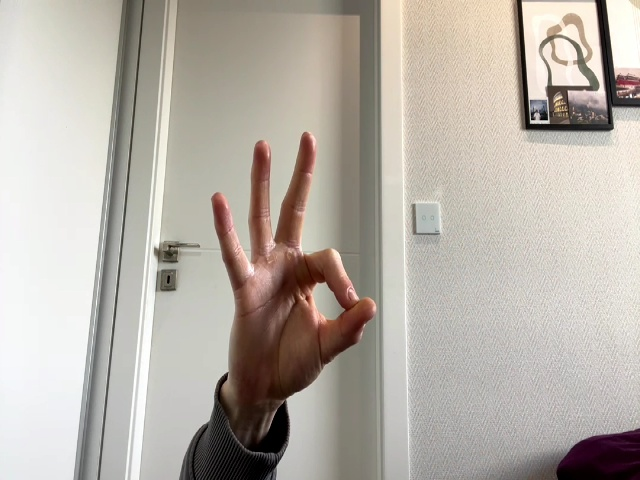O: (212, 131, 377, 381)
